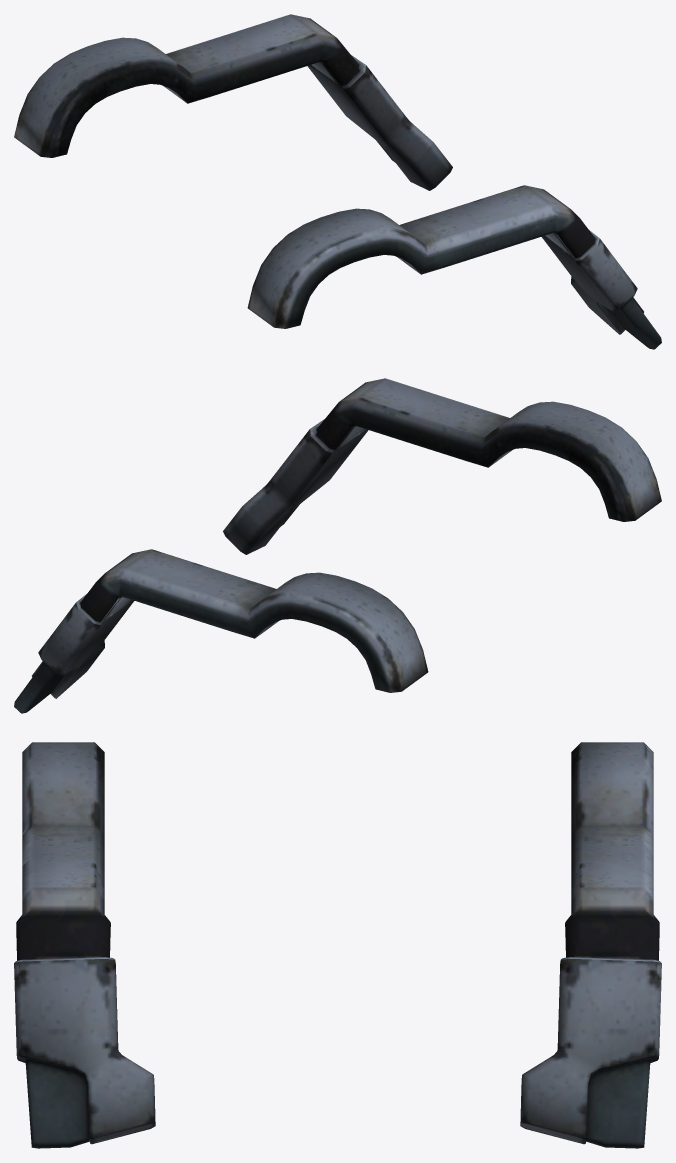
Rendered from Shuttle_Interior_Seat_Brace.FBX.
The picture shows the model from 3 angles, top to bottom: view 1: azimuth 30°, elevation 25°; view 2: azimuth 150°, elevation 25°; view 3: azimuth 270°, elevation 25°; orthographic projection. The views are drawn at different scales.
Parts seen in each view (by area): view 1: Shuttle_Interior_Seat_Brace; view 2: Shuttle_Interior_Seat_Brace; view 3: Shuttle_Interior_Seat_Brace.
Part boxes in pixels (bbox=[...]): Shuttle_Interior_Seat_Brace: bbox=[14, 14, 661, 349]; Shuttle_Interior_Seat_Brace: bbox=[14, 378, 661, 713]; Shuttle_Interior_Seat_Brace: bbox=[14, 742, 661, 1148].
Size of the model in its own units: 0.3987 by 0.1837 by 0.4815.
